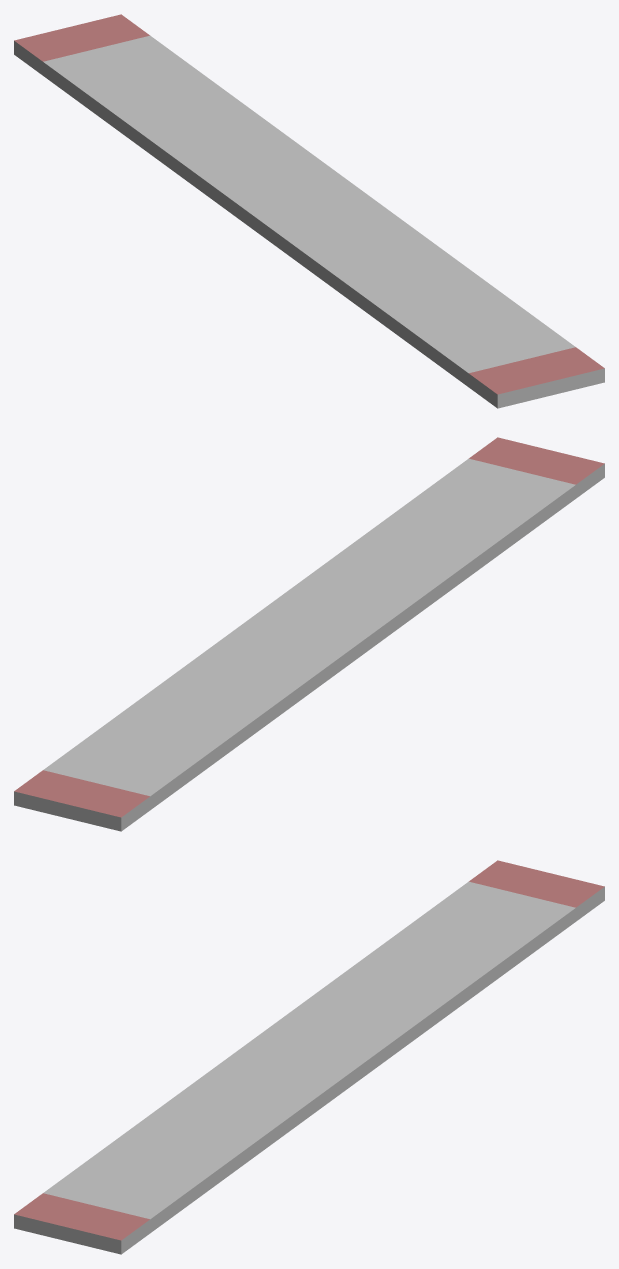
The model's file is roadPiece.fbx.
3 renders of one model, top to bottom at view 1: azimuth 30°, elevation 25°; view 2: azimuth 150°, elevation 25°; view 3: azimuth 330°, elevation 25°, orthographic.
Visible parts, largest first — view 1: roadPiece; view 2: roadPiece; view 3: roadPiece.
Boxes of the visible parts, box(x1,y1,x2,y2) form: roadPiece: box(14, 14, 604, 408); roadPiece: box(14, 437, 604, 831); roadPiece: box(14, 860, 604, 1254).
Size of the model in its own units: 7.99 by 1 by 62.39.
